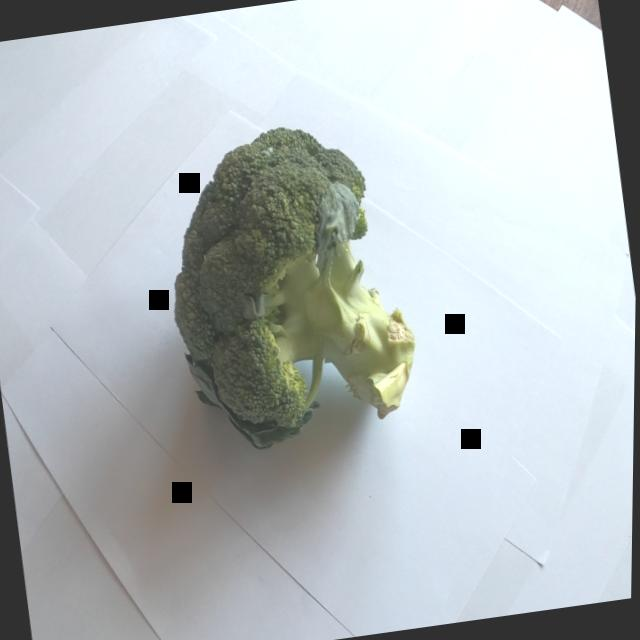Broccoli: (132, 95, 458, 472)
